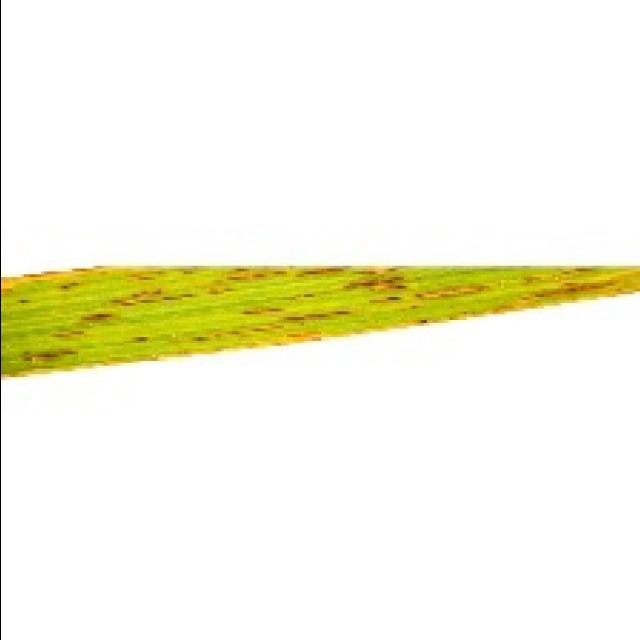Unhealthy: (0, 265, 640, 379)
